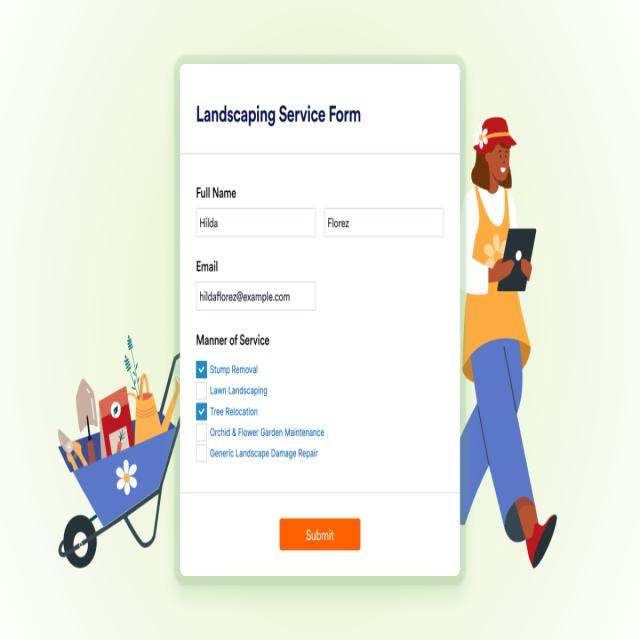buttons: (279, 519, 360, 550)
checkbox: (195, 444, 318, 462), (196, 424, 325, 440), (195, 380, 267, 400), (194, 359, 259, 379), (197, 403, 258, 419)
input-fields: (197, 209, 317, 239), (325, 207, 447, 236), (197, 284, 317, 308)
text: (194, 102, 363, 128), (197, 333, 270, 347)
